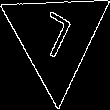L_SW: (33, 8, 79, 68)
